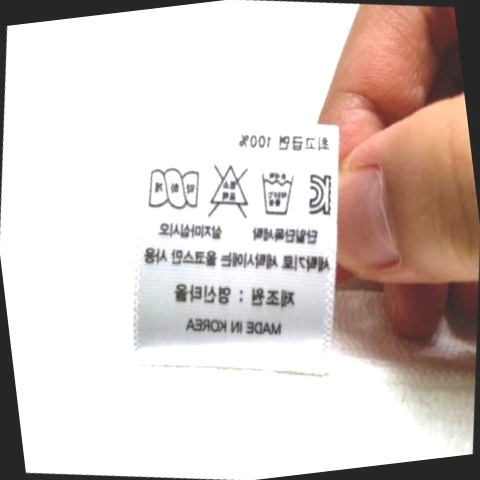hand_wash: (248, 165, 302, 225)
non_chlorine_bleach: (198, 154, 259, 227)
wring: (142, 161, 207, 218)
